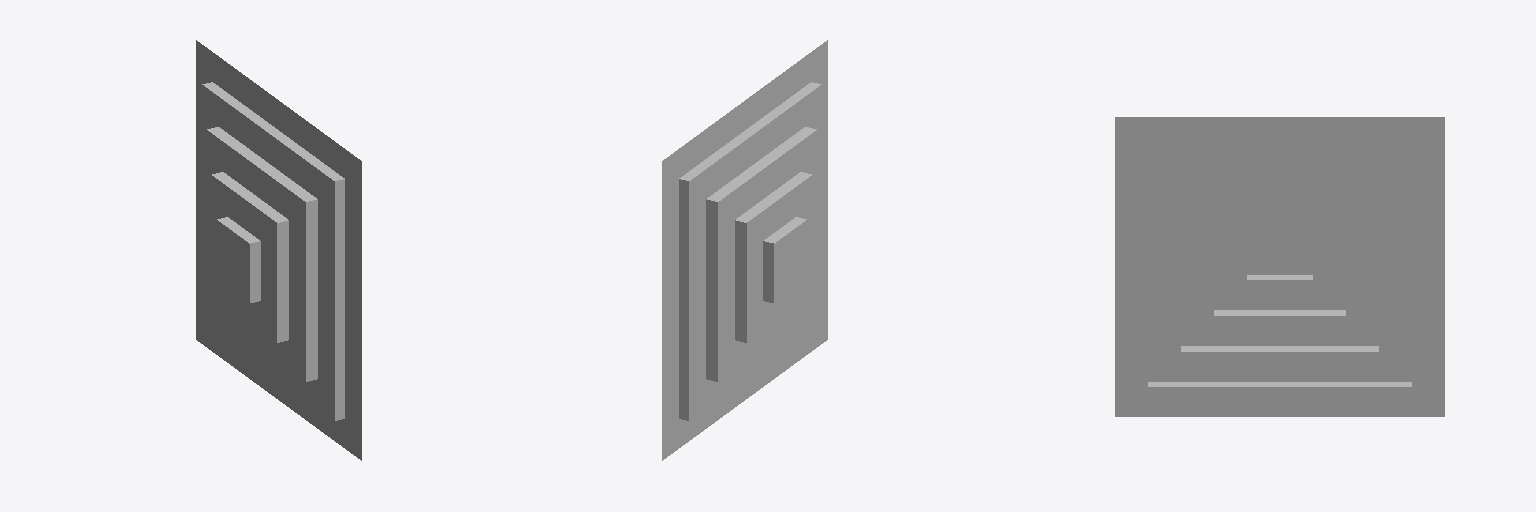
File: 03_Wall_Hypnotic.obj
3 views of the same model, side by side, from view 1: azimuth 30°, elevation 25°; view 2: azimuth 150°, elevation 25°; view 3: azimuth 270°, elevation 25° (orthographic).
Visible parts, largest first — view 1: pPlane7; view 2: pPlane7; view 3: pPlane7.
Part boxes in pixels (x1,y1,x2,y2): pPlane7: (196,40,361,460); pPlane7: (662,40,827,460); pPlane7: (1115,117,1444,416).
Size of the model in its own units: 12.78 by 80 by 80.